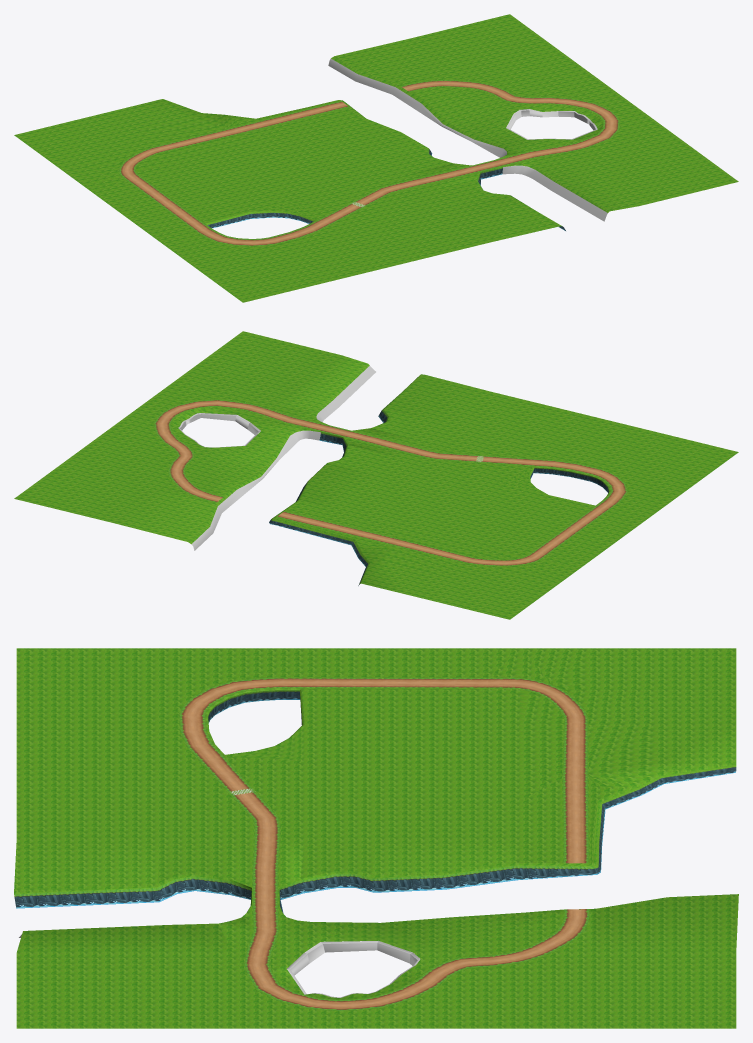
The model's file is rc_01_grd_dm.FBX.
3 views of the same model, one above another, from view 1: azimuth 30°, elevation 25°; view 2: azimuth 150°, elevation 25°; view 3: azimuth 270°, elevation 25° (orthographic). The views are drawn at different scales.
Visible parts, largest first — view 1: Plane002, 图形011, 对象006, 对象017; view 2: Plane002, 图形011, 对象006, 对象018, 对象017; view 3: Plane002, 图形011, 对象018, 对象006, 对象017.
Part boxes in pixels (bbox=[...]): Plane002: bbox=[14, 14, 738, 302]; 图形011: bbox=[118, 79, 620, 246]; 对象006: bbox=[328, 58, 607, 221]; 对象017: bbox=[205, 210, 315, 228]; Plane002: bbox=[14, 331, 738, 619]; 图形011: bbox=[153, 399, 628, 566]; 对象006: bbox=[178, 366, 375, 550]; 对象018: bbox=[269, 375, 419, 585]; 对象017: bbox=[529, 466, 608, 505]; Plane002: bbox=[14, 648, 738, 1028]; 图形011: bbox=[178, 677, 590, 1011]; 对象018: bbox=[14, 764, 736, 913]; 对象006: bbox=[19, 912, 420, 997]; 对象017: bbox=[208, 689, 304, 754].
Size of the model in its own units: 100000 by 80605 by 1518.
